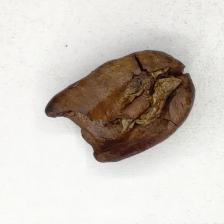NG: (44, 90, 112, 163), (121, 72, 179, 124)
